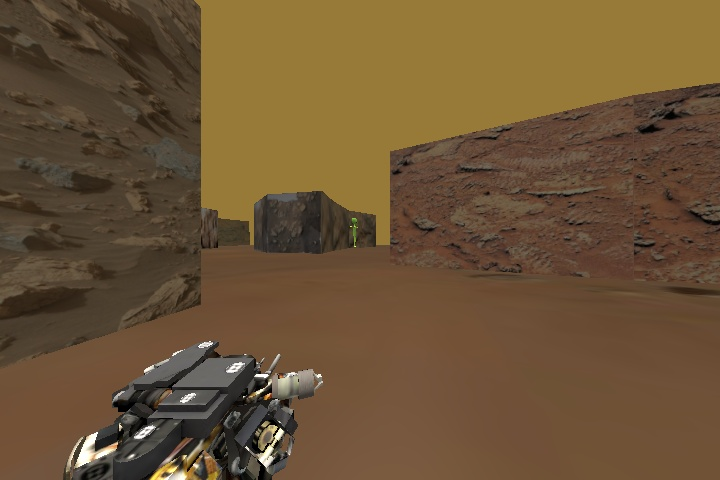alien: (347, 215, 360, 247)
